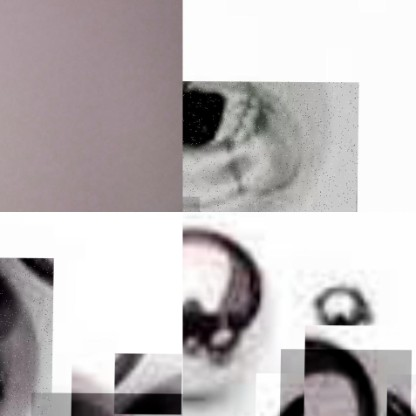ironball: (182, 80, 337, 211), (182, 218, 279, 397), (0, 257, 53, 415), (302, 334, 377, 411), (311, 283, 371, 325)
